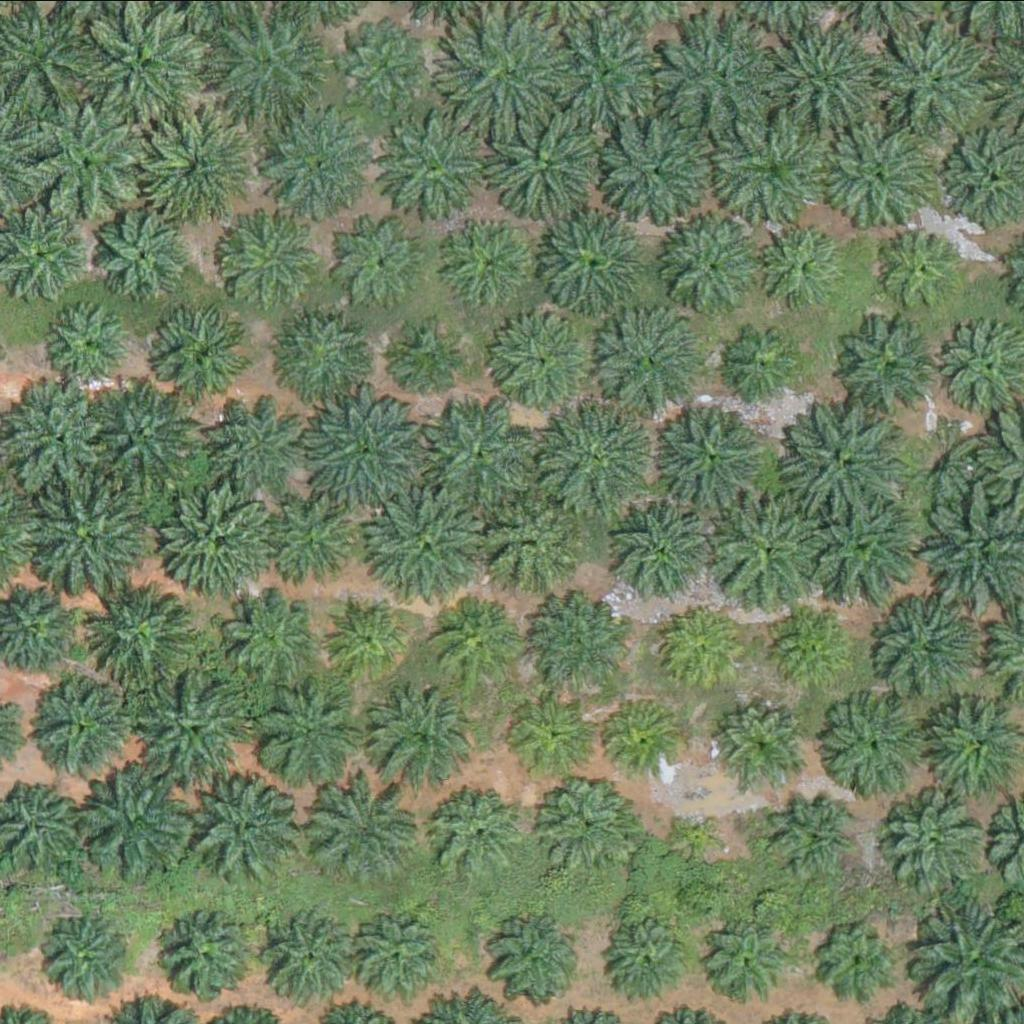Kelapa_Sawit: (442, 15, 568, 140), (704, 481, 830, 606), (789, 482, 915, 607), (771, 394, 897, 519), (710, 100, 836, 225), (863, 18, 989, 143), (649, 12, 775, 137), (765, 18, 890, 143), (143, 112, 257, 225), (488, 108, 602, 221), (536, 205, 650, 318), (84, 580, 198, 693), (214, 2, 327, 115), (28, 101, 141, 214), (377, 108, 490, 221), (491, 300, 604, 413), (540, 398, 653, 511), (306, 394, 419, 507), (35, 482, 148, 595), (155, 485, 268, 598), (215, 587, 328, 700), (823, 122, 936, 235), (373, 478, 487, 590), (249, 676, 363, 788), (365, 679, 479, 791), (81, 770, 195, 882), (604, 113, 718, 225), (597, 304, 711, 416), (551, 15, 664, 127), (266, 111, 379, 223), (424, 396, 537, 508), (86, 377, 199, 489), (140, 671, 253, 783), (655, 404, 768, 516), (659, 199, 772, 311), (193, 391, 294, 491), (313, 787, 414, 887), (41, 911, 142, 1011), (262, 906, 363, 1006), (351, 905, 452, 1005), (878, 597, 979, 697), (155, 302, 255, 402), (476, 487, 576, 587), (31, 674, 131, 774), (533, 778, 633, 878), (200, 783, 300, 883), (156, 902, 256, 1002), (882, 790, 982, 890), (822, 688, 922, 788), (844, 306, 944, 406), (536, 600, 625, 688), (323, 593, 411, 681), (445, 217, 533, 305), (45, 303, 133, 391), (269, 504, 357, 592), (435, 601, 523, 689), (431, 790, 519, 878), (596, 690, 684, 778), (597, 910, 686, 997), (221, 211, 309, 298), (95, 212, 183, 299), (276, 310, 364, 397), (511, 689, 599, 776), (490, 914, 578, 1001), (618, 504, 706, 591), (769, 604, 845, 679), (347, 220, 423, 295), (726, 707, 802, 782), (665, 606, 741, 681), (728, 321, 804, 396), (825, 923, 900, 998), (337, 26, 412, 101), (709, 923, 784, 998), (776, 789, 851, 864), (766, 224, 841, 299), (891, 227, 966, 302), (395, 325, 458, 388), (918, 420, 981, 482), (678, 817, 728, 867)
